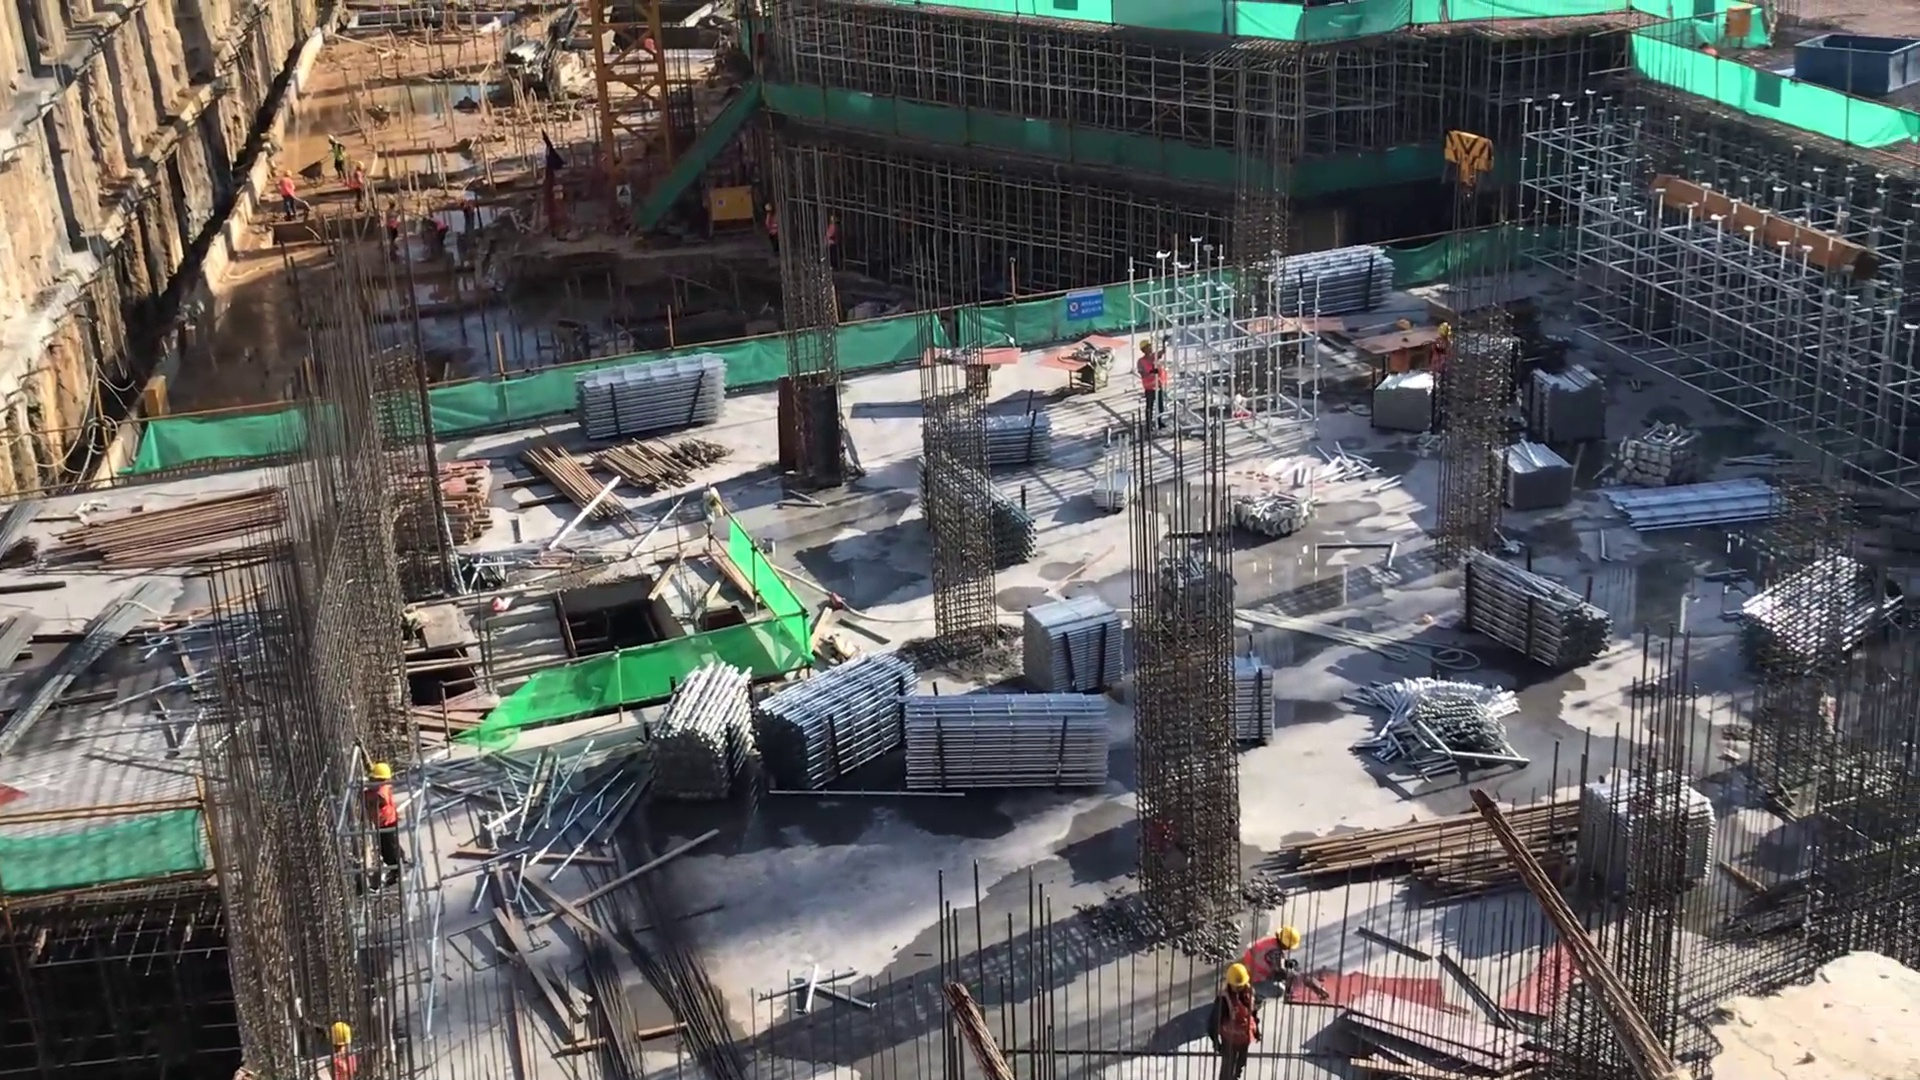cutter: (1033, 332, 1132, 397), (918, 344, 1023, 394)
ebox: (703, 182, 760, 242)
helmet: (358, 753, 397, 788), (1267, 920, 1301, 959), (323, 1017, 358, 1052), (1216, 963, 1257, 990), (1139, 334, 1155, 356)
hook: (1438, 121, 1498, 219)
hopper: (1788, 24, 1920, 99)
person: (353, 749, 418, 881), (1208, 959, 1268, 1080), (1234, 915, 1305, 1006), (1130, 334, 1174, 425), (314, 1013, 365, 1080)
scaffold: (752, 638, 924, 809), (895, 686, 1118, 794), (1458, 531, 1610, 662), (645, 651, 760, 806), (560, 350, 741, 443), (1018, 585, 1126, 704), (1279, 239, 1408, 320), (1527, 359, 1618, 449), (1474, 438, 1579, 507), (981, 399, 1056, 483), (1369, 367, 1437, 435)
vest: (1212, 988, 1258, 1056), (360, 784, 402, 837), (1240, 934, 1278, 984), (1137, 358, 1171, 401), (320, 1050, 359, 1080)
